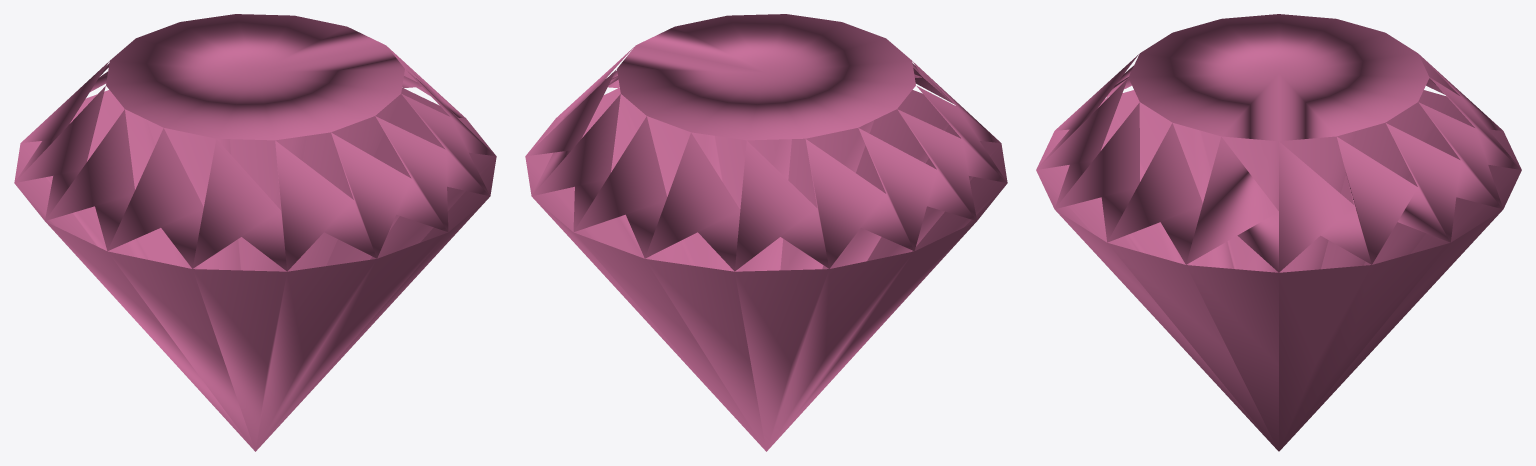
Rendered from brilliant-pink.glb.
3 renders of one model, left to right at view 1: azimuth 30°, elevation 25°; view 2: azimuth 150°, elevation 25°; view 3: azimuth 270°, elevation 25°, orthographic.
Visible parts, largest first — view 1: gem; view 2: gem; view 3: gem.
Part boxes in pixels (x1,y1,x2,y2): gem: (14, 14, 496, 451); gem: (525, 14, 1007, 451); gem: (1036, 14, 1521, 451).
Size of the model in its own units: 2 by 1.72 by 2.
